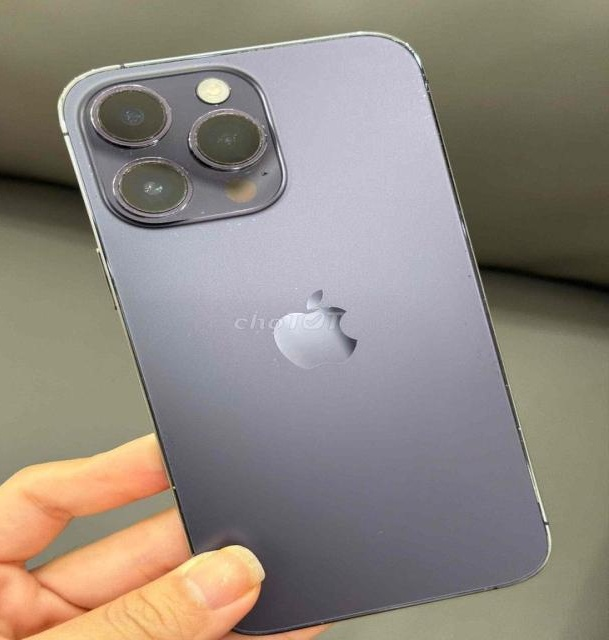scratch: (92, 152, 211, 226), (186, 99, 278, 177), (85, 80, 175, 150), (419, 72, 436, 98)
